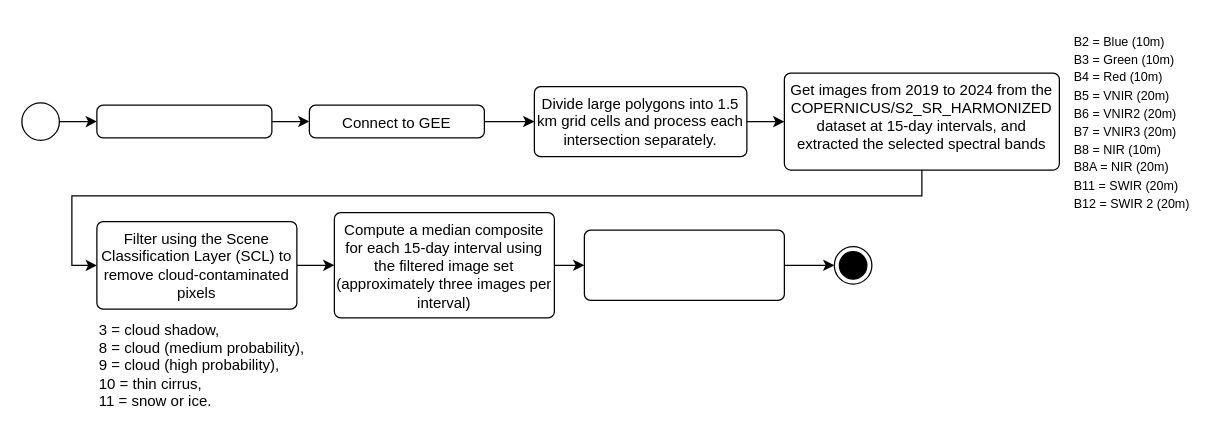
Some shapes in this 1219 by 439 pixel diagram are drawn without their labels. The shapes that lost their labels are listed below. From the top down, each one's centre as x and y in pixels, then its label:
At [184,121]: "Load GPKGs and SHP".
At [683,264]: "Convert image time-series into 4D Numpy tensors (Time, Bands, Height, Width)".
